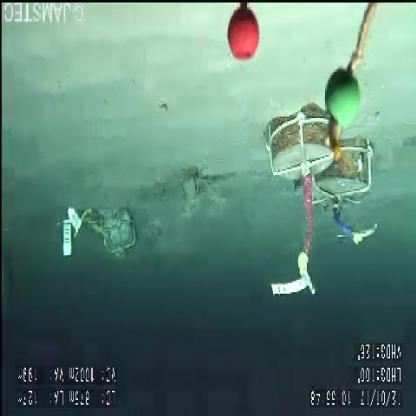Rác: (168, 162, 224, 222)
